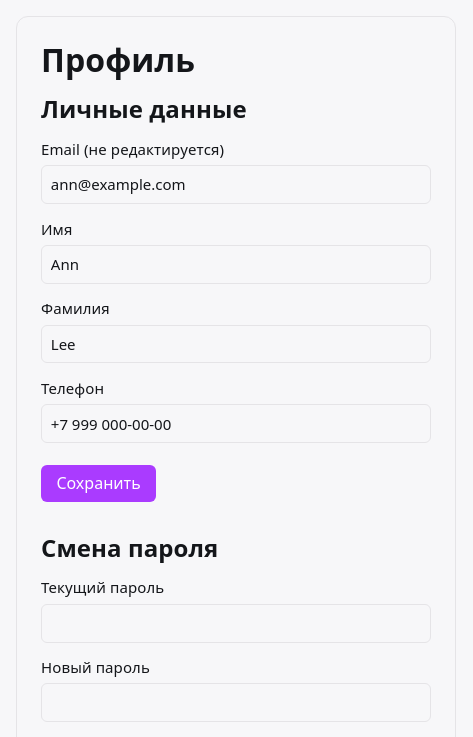
Test: ProfilePage › во время сохранения профиля кнопка disabled
This screenshot has width=473, height=737.
Click the button "Сохранить": (99, 483) [41,465,156,502]
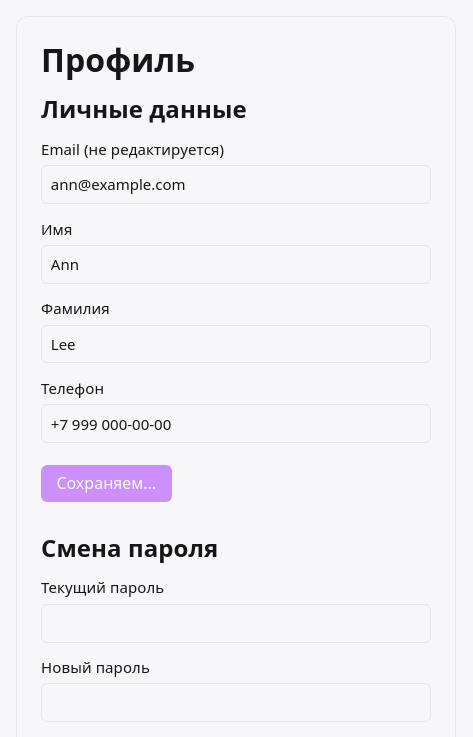
Check: the button "Сохраняем..." is disabled, box [41,465,172,502]
